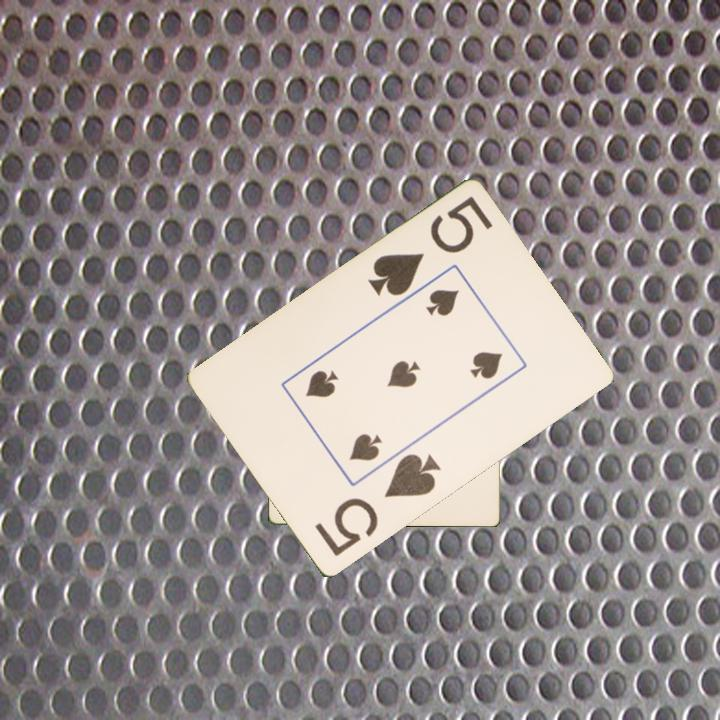5s: (311, 450, 444, 560), (364, 193, 496, 300)
